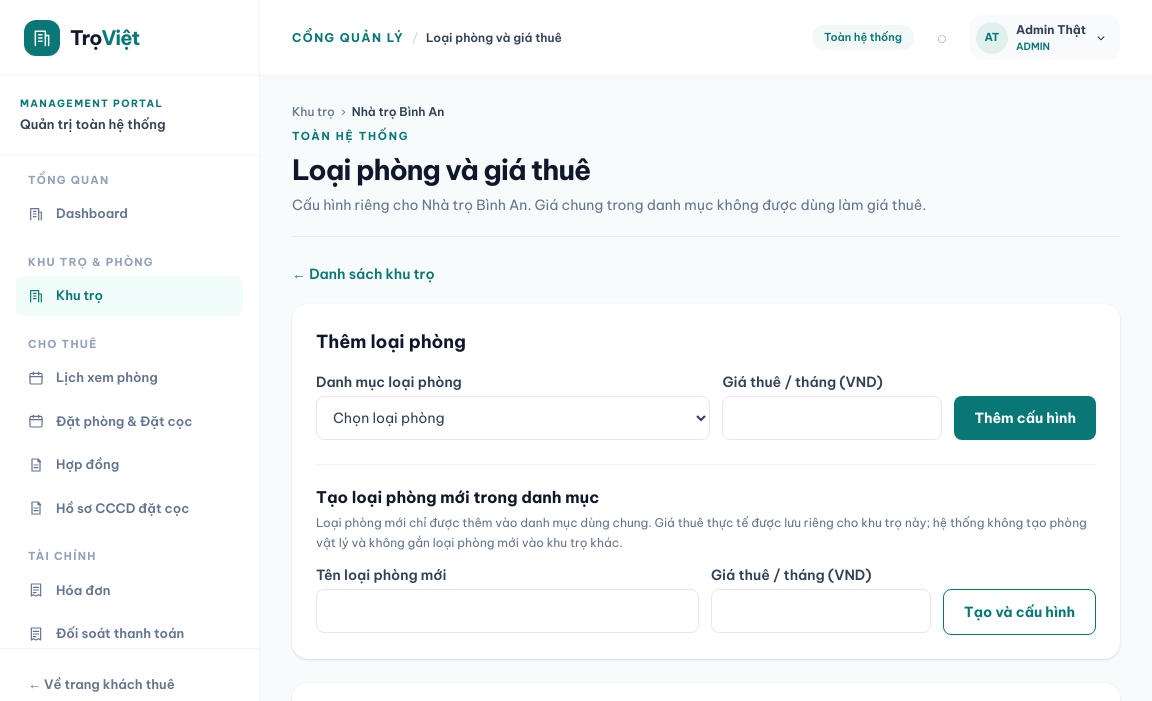
Test: management property room types › shows a duplicate configuration error and does not report success
Select "Deluxe" in the dropdown labelled "Danh mục loại phòng" at [513, 418], box left=316, top=396, right=710, bottom=440
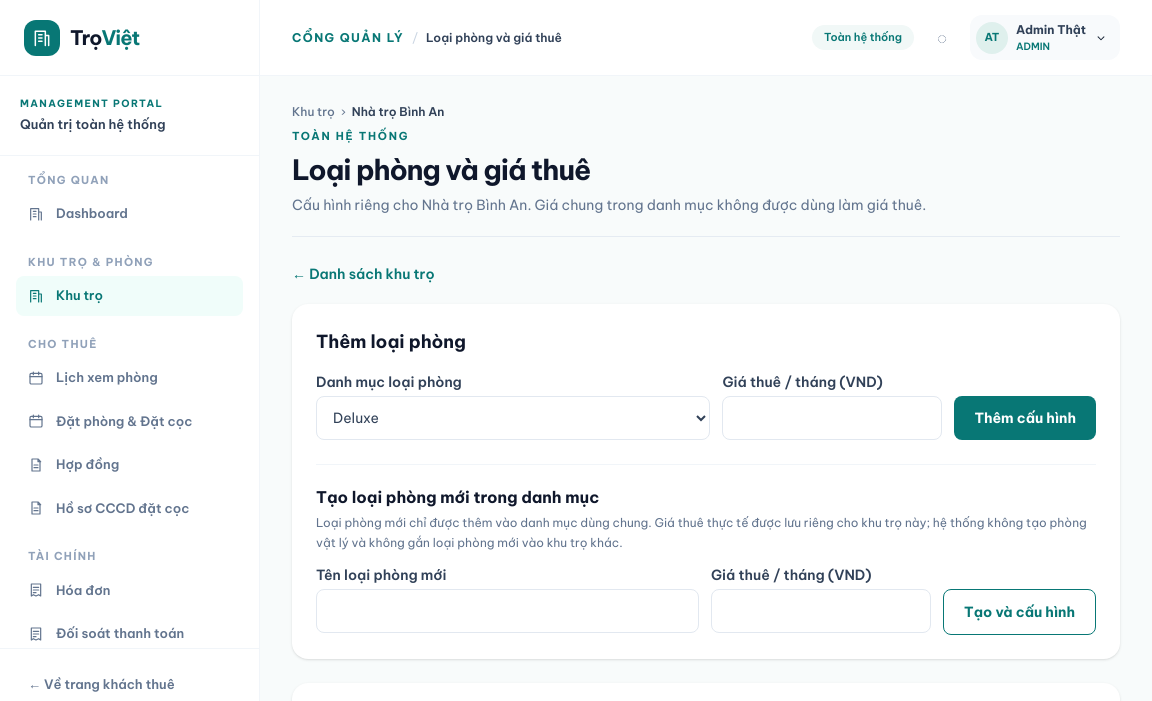
Type "4000000" into the number field named "Giá thuê mới" at [832, 418], box left=722, top=396, right=942, bottom=440
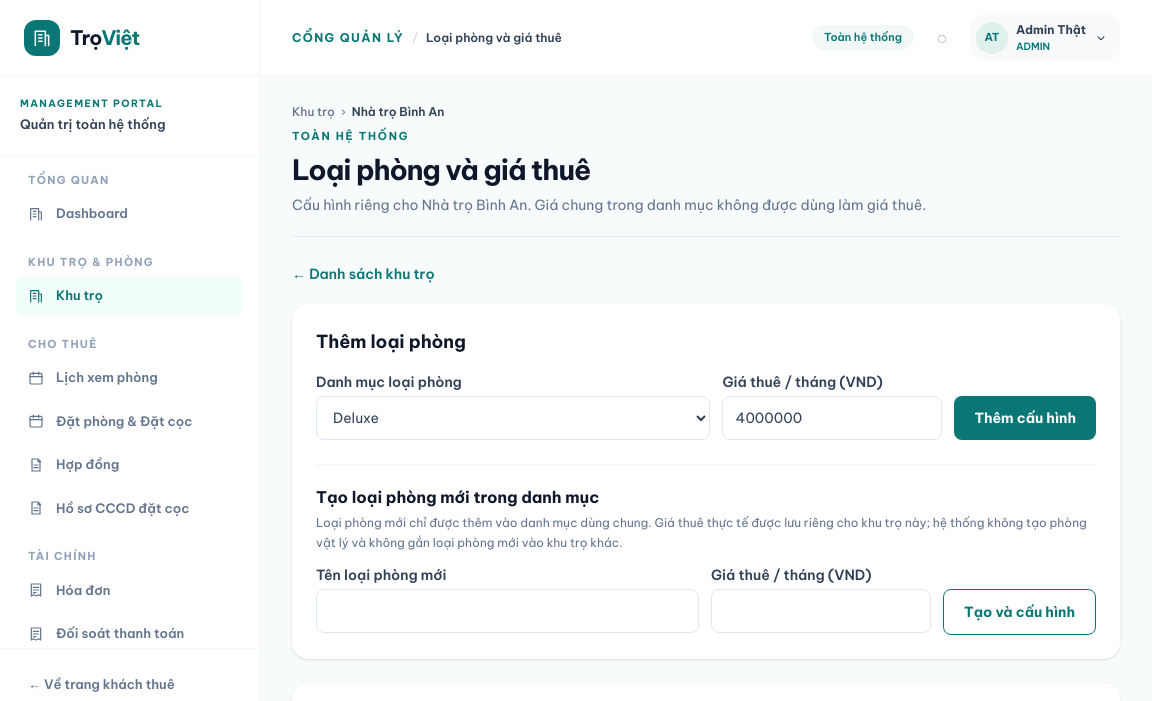
Click the button "Thêm cấu hình" at [1025, 418], box left=954, top=396, right=1096, bottom=440
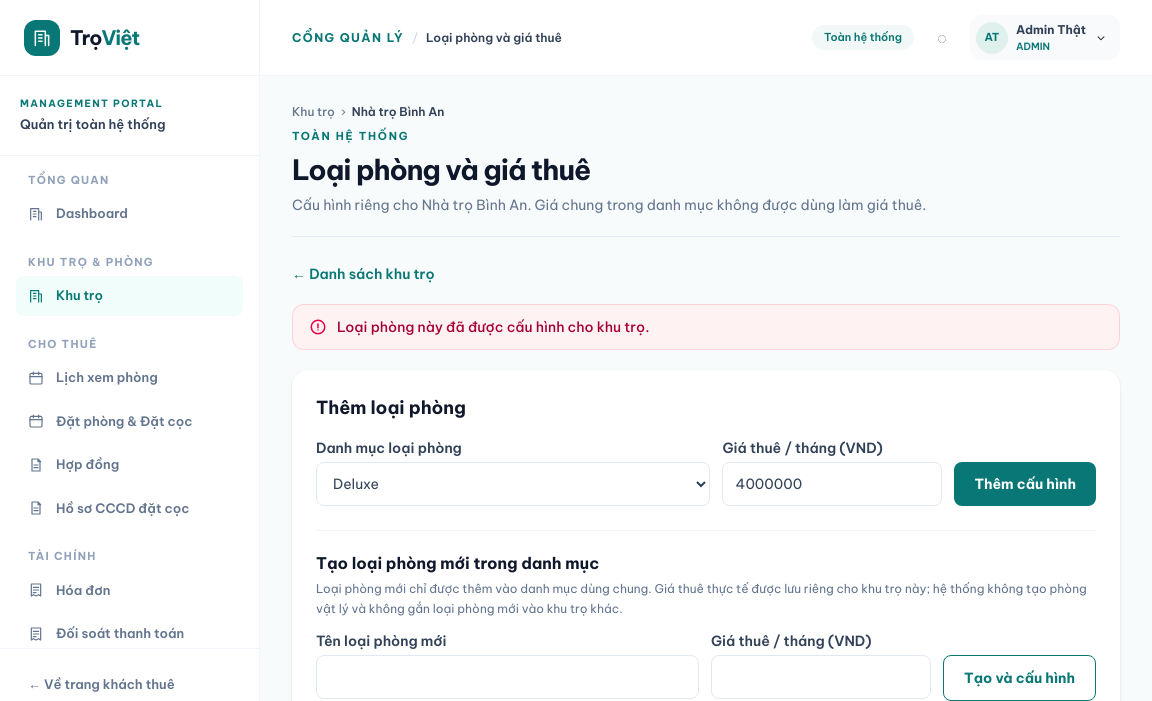
Expected: the text "Loại phòng này đã được cấu hình cho khu trọ." is shown, left=337, top=316, right=649, bottom=336
